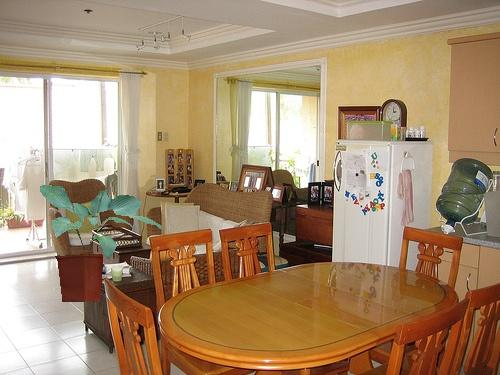tampered: (41, 186, 163, 302)
